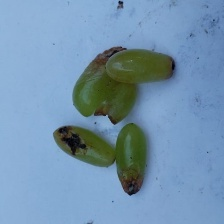grapes: (28, 12, 187, 188)
